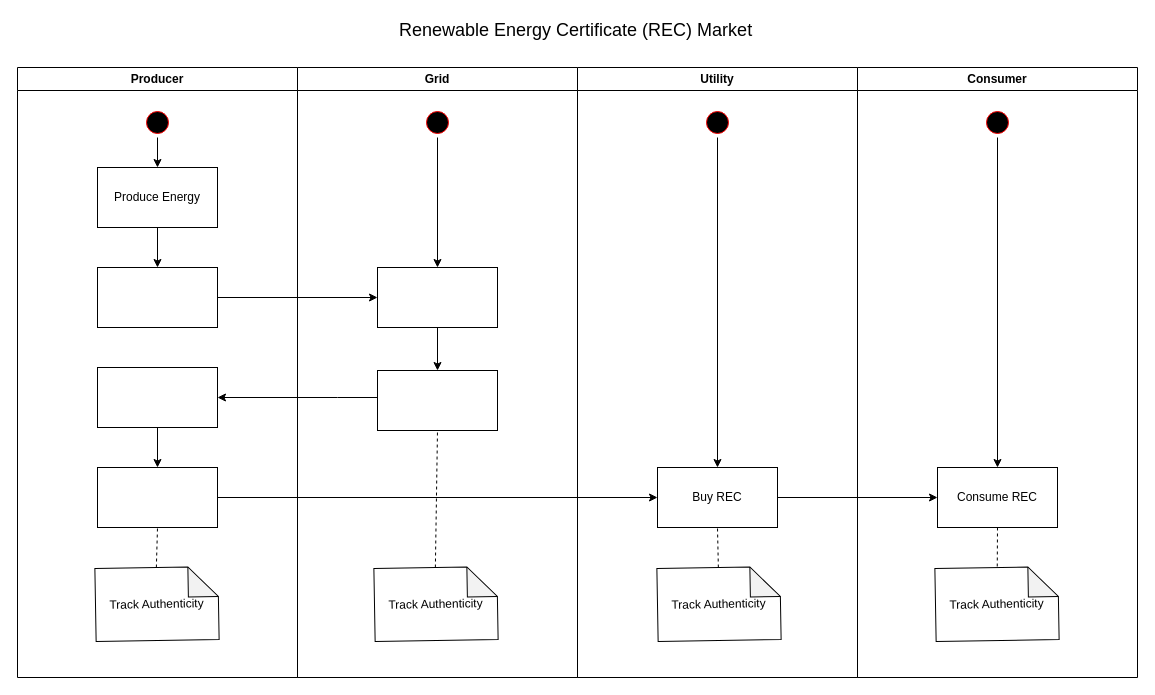
Some shapes in this 1155 by 695 pixel diagram are drawn without their labels. Each missing label, with the centre of its shape:
Issue REC: pixel 437 400
Receive Energy: pixel 437 297
Receive REC: pixel 157 397
Sale REC: pixel 157 497
Supply Energy: pixel 157 297
